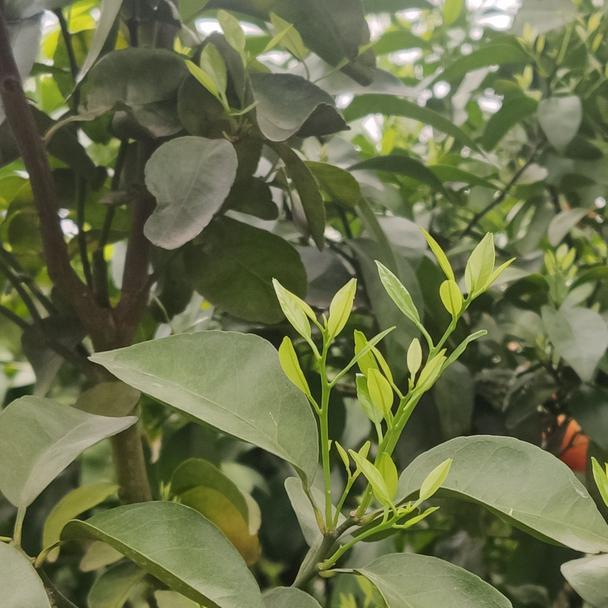shoot: (380, 241, 506, 405), (268, 302, 369, 461), (368, 337, 447, 474), (349, 462, 445, 545)
